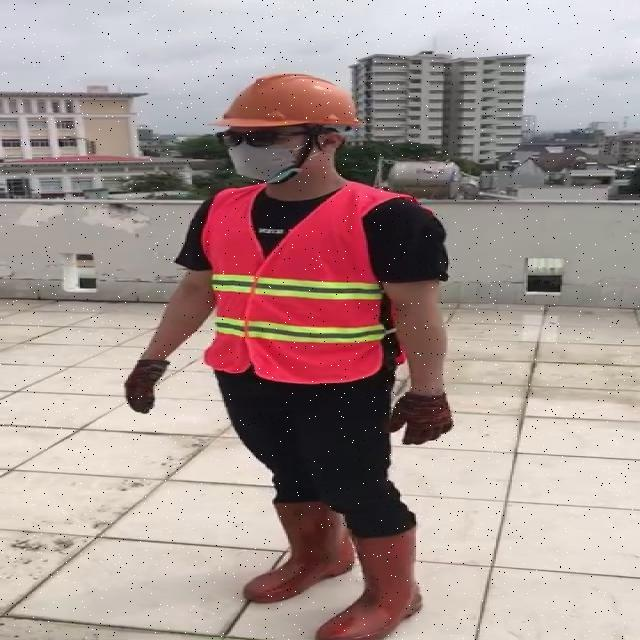Hard_hat: (208, 67, 369, 144)
Vest: (205, 179, 386, 386)
